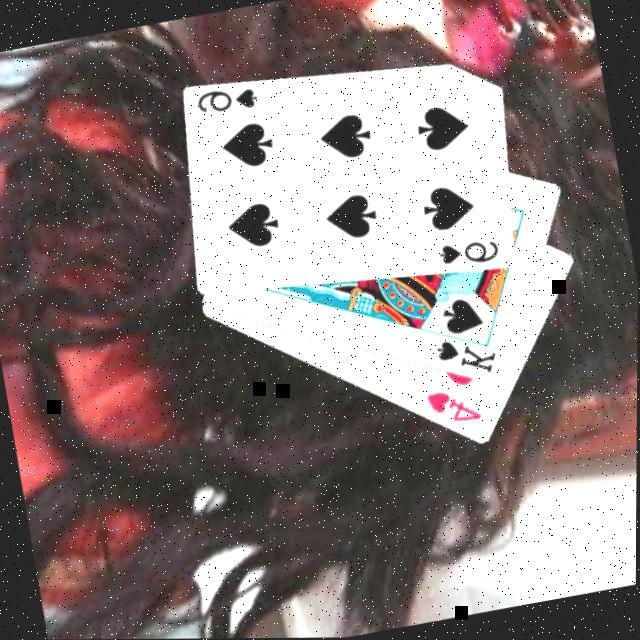4H: (423, 384, 487, 434)
6S: (436, 234, 504, 276), (194, 81, 263, 122)
KS: (432, 331, 503, 388)
